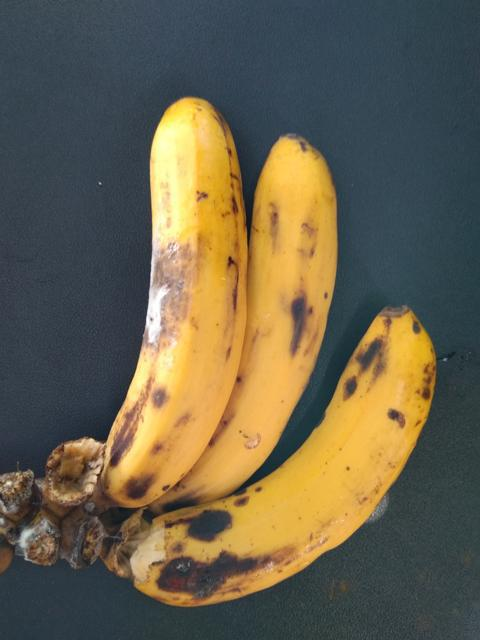overripe: (98, 297, 452, 635), (164, 99, 349, 524), (77, 73, 236, 510)
rotten: (111, 221, 206, 370)
